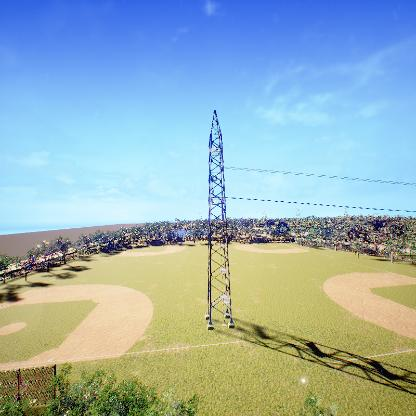tower: (196, 108, 235, 330)
